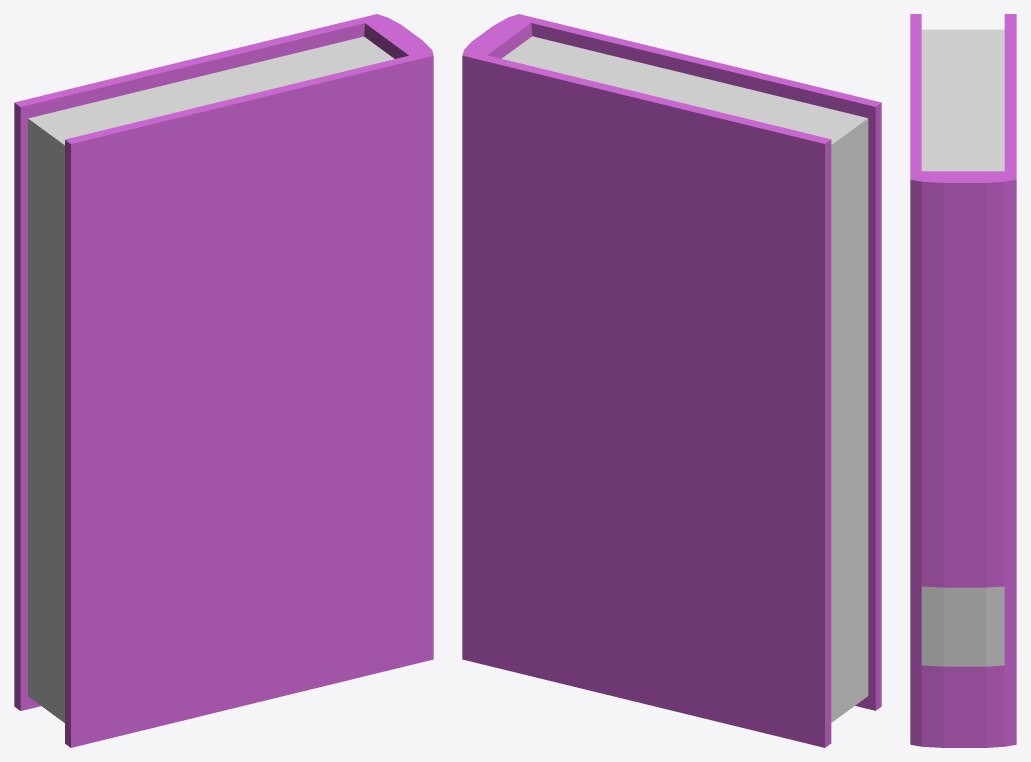
Rendered from Book.fbx.
3 renders of one model, left to right at view 1: azimuth 30°, elevation 25°; view 2: azimuth 150°, elevation 25°; view 3: azimuth 270°, elevation 25°, orthographic. The views are drawn at different scales.
Visible parts, largest first — view 1: BookMesh; view 2: BookMesh; view 3: BookMesh, BookLabel.
Boxes of the visible parts, x1,y1,x2,y2 form: BookMesh: [14, 14, 433, 747]; BookMesh: [462, 14, 881, 747]; BookMesh: [910, 14, 1016, 747]; BookLabel: [921, 586, 1004, 666].
Bounding box in the file's own units: 0.1809 × 0.2814 × 0.048.
